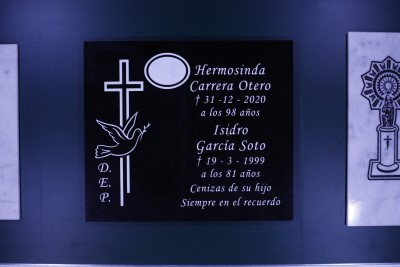lapidas: (83, 40, 293, 221)
